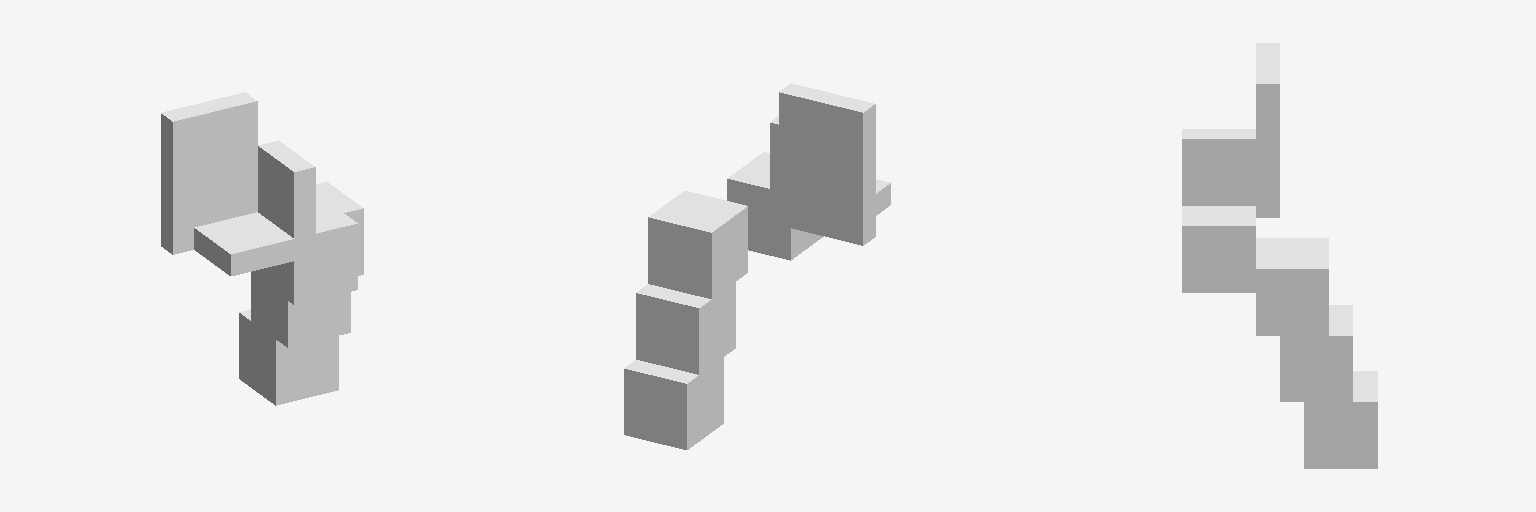
The model's file is mano_izq_pez.obj.
The picture shows the model from 3 angles: view 1: azimuth 30°, elevation 25°; view 2: azimuth 150°, elevation 25°; view 3: azimuth 270°, elevation 25°; orthographic projection.
Visible parts, largest first — view 1: mano_izq_pez; view 2: mano_izq_pez; view 3: mano_izq_pez.
Part boxes in pixels (bbox=[...]): mano_izq_pez: bbox=[161, 92, 363, 405]; mano_izq_pez: bbox=[624, 83, 890, 449]; mano_izq_pez: bbox=[1182, 43, 1377, 468].
Bounding box in the file's own units: 0.9 × 1.5 × 0.8.